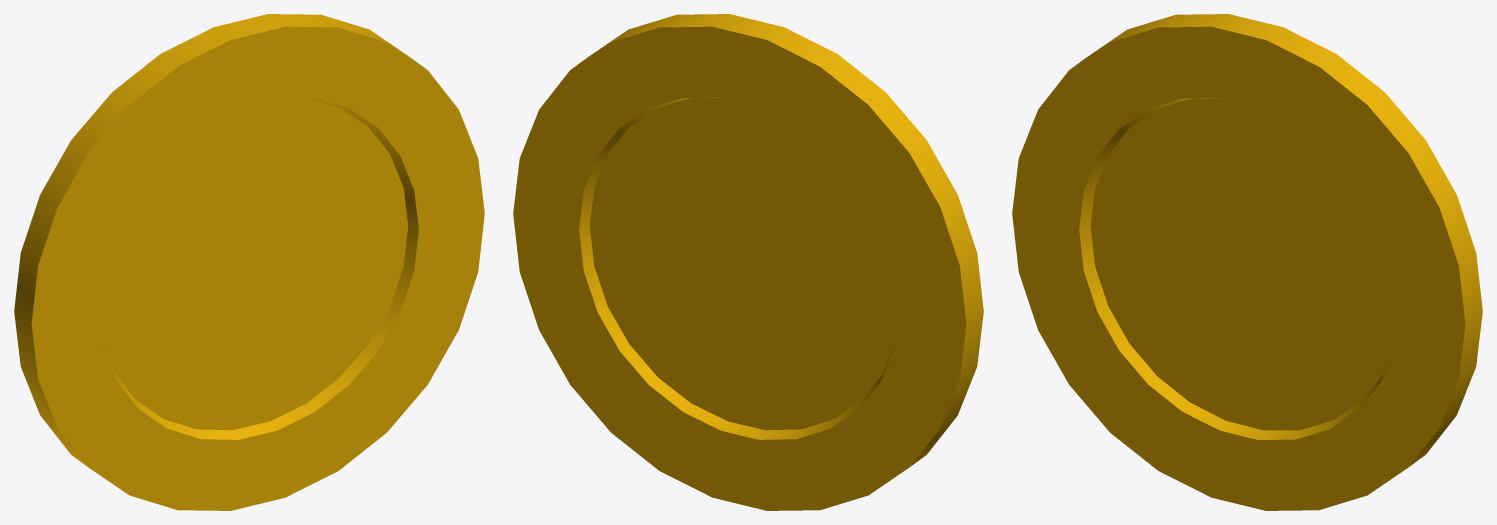
File: Coin.fbx
3 views of the same model, side by side, from view 1: azimuth 30°, elevation 25°; view 2: azimuth 150°, elevation 25°; view 3: azimuth 330°, elevation 25° (orthographic).
Parts seen in each view (by area): view 1: Gold_Coin; view 2: Gold_Coin; view 3: Gold_Coin.
Part boxes in pixels (box(x1,y1,x2,y2)): Gold_Coin: box(14, 14, 484, 510); Gold_Coin: box(513, 14, 983, 510); Gold_Coin: box(1012, 14, 1482, 510).
Size of the model in its own units: 55.63 by 55.22 by 3.7.
